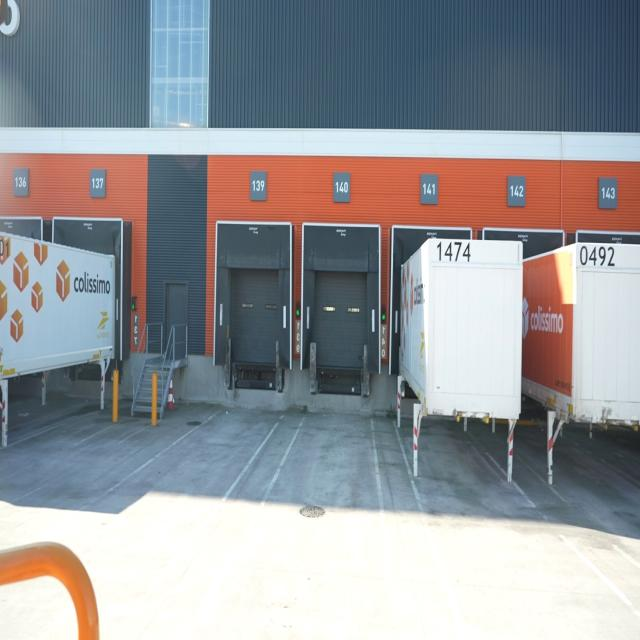Code: (578, 238, 616, 271), (432, 237, 474, 266)
